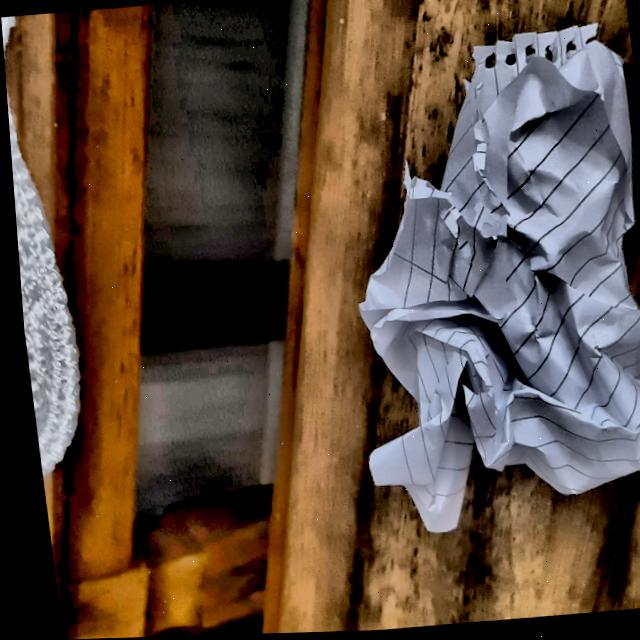paper: (310, 26, 640, 548)
